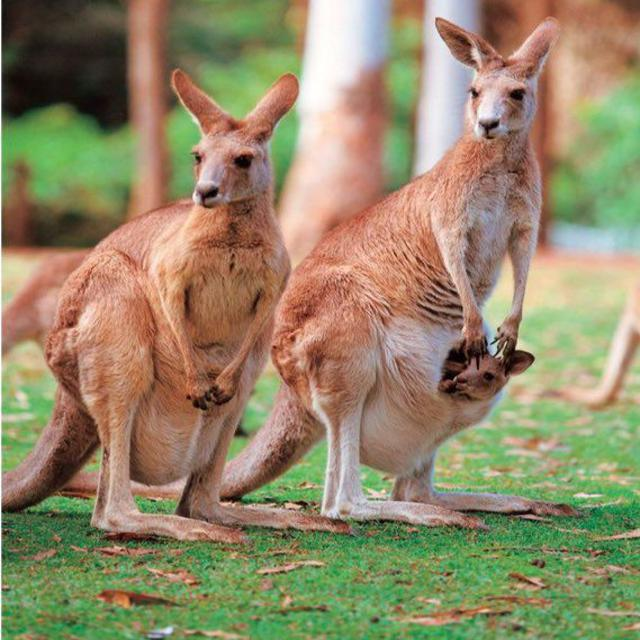kangaroo: (307, 13, 561, 519), (56, 69, 310, 537)
